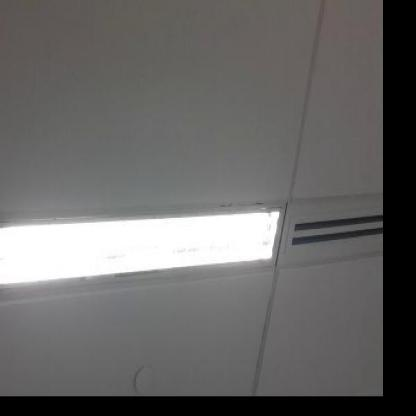light_on: (0, 170, 286, 349)
